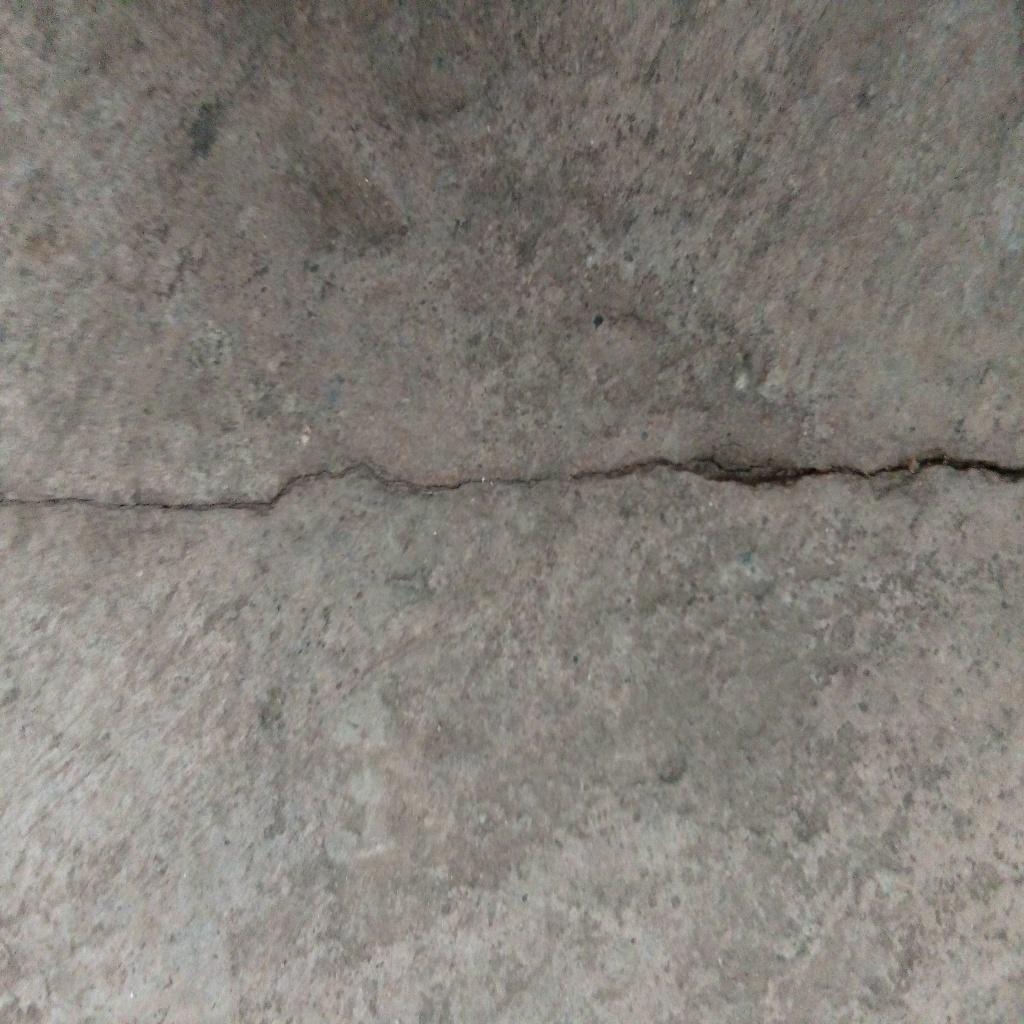Crack: (1, 454, 1024, 518)
